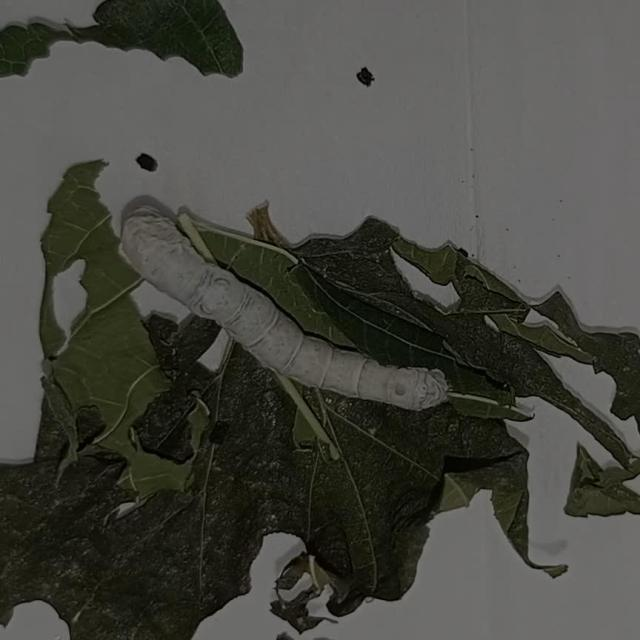Healthy: (74, 139, 476, 443)
